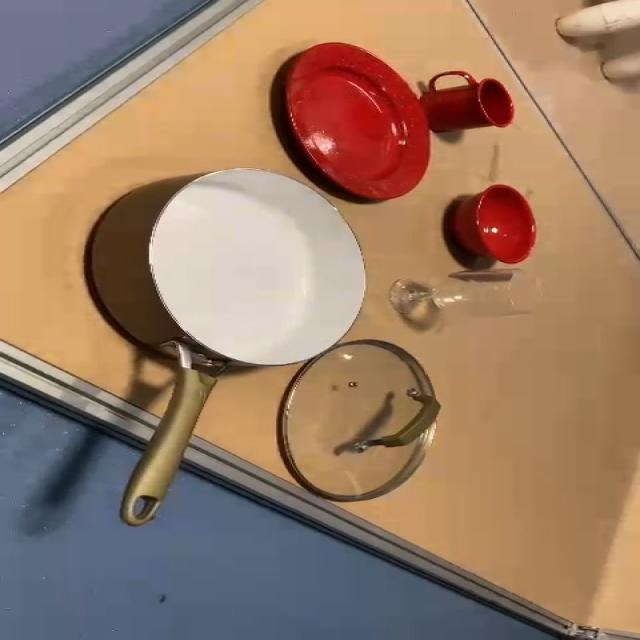Bowl: (448, 180, 538, 264)
Glass: (395, 267, 542, 330)
Plate: (278, 42, 434, 203)
dishwasher: (410, 69, 515, 132)
pot: (112, 164, 358, 536)
